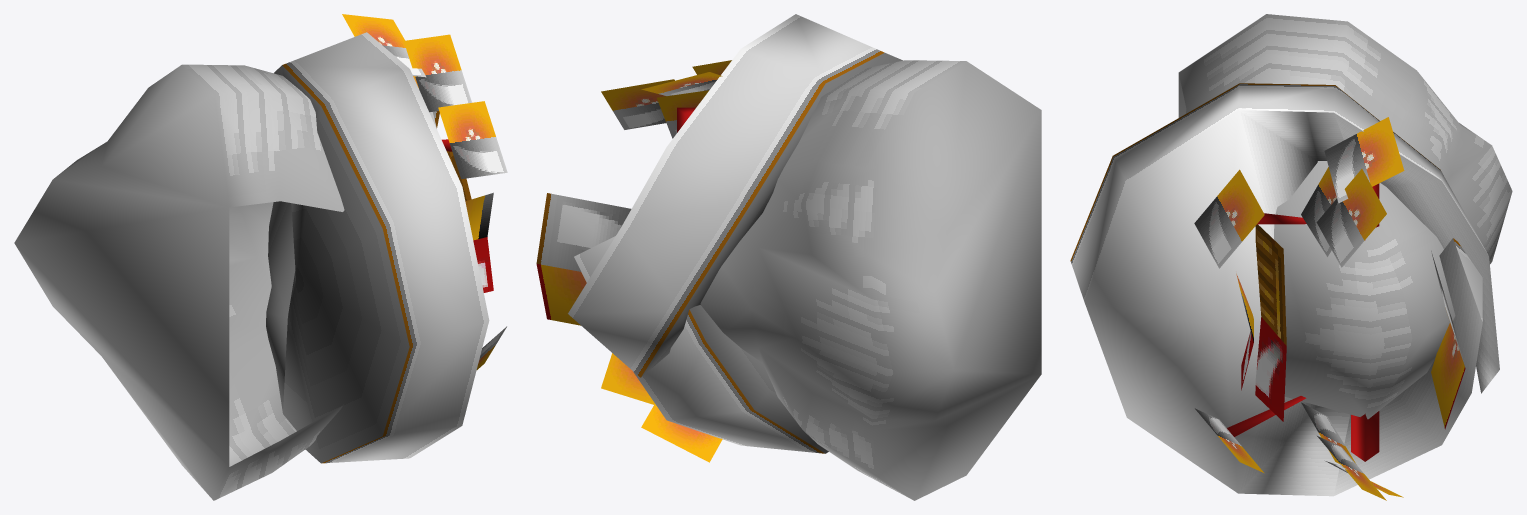
The model's file is hlmt_wig_thunokakushi.dae.
3 renders of one model, left to right at view 1: azimuth 30°, elevation 25°; view 2: azimuth 150°, elevation 25°; view 3: azimuth 270°, elevation 25°, orthographic. The views are drawn at different scales.
Visible parts, largest first — view 1: hlmt_wig_thunokakushi; view 2: hlmt_wig_thunokakushi; view 3: hlmt_wig_thunokakushi.
Boxes of the visible parts, left/top/right/bottom form: hlmt_wig_thunokakushi: left=14, top=14, right=507, bottom=500; hlmt_wig_thunokakushi: left=536, top=14, right=1041, bottom=500; hlmt_wig_thunokakushi: left=1070, top=14, right=1512, bottom=500.
Size of the model in its own units: 31.6 by 29.61 by 29.61.
2 materials, 2 textured.
